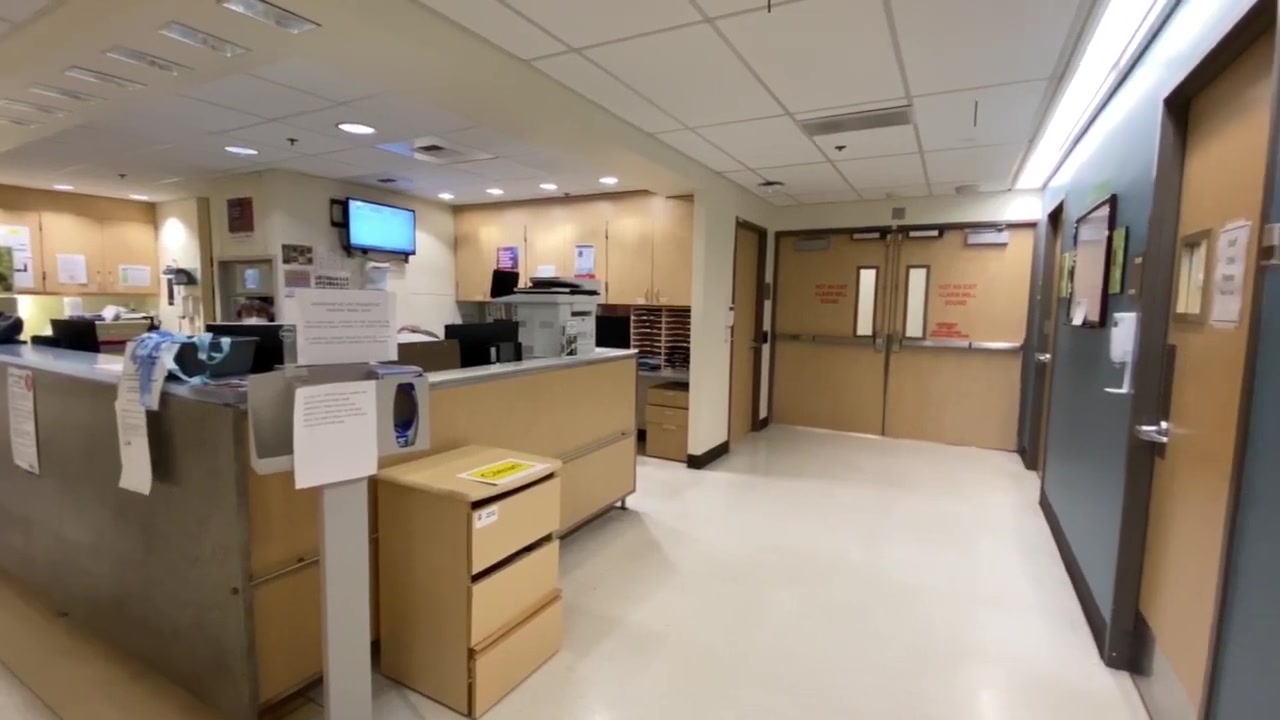TV: (347, 199, 418, 255)
cabinet: (453, 194, 690, 304), (1, 183, 160, 297)
computer: (204, 320, 288, 373), (448, 315, 518, 361), (50, 317, 103, 353)
counter: (237, 349, 638, 716), (2, 341, 234, 718)
countertop: (1, 339, 234, 407), (407, 345, 638, 387)
dispenser: (370, 360, 435, 455), (1102, 311, 1138, 398), (723, 304, 737, 340)
door_handle: (1129, 417, 1171, 447), (1033, 351, 1053, 365), (748, 341, 760, 352)
drawer: (645, 379, 690, 462)
handle: (96, 271, 104, 290), (108, 271, 115, 291), (660, 424, 677, 431), (654, 288, 661, 304), (643, 288, 650, 304), (662, 412, 673, 417), (664, 393, 677, 397)
push_latch: (889, 332, 1024, 353), (773, 331, 886, 353)
table: (376, 441, 568, 720)
